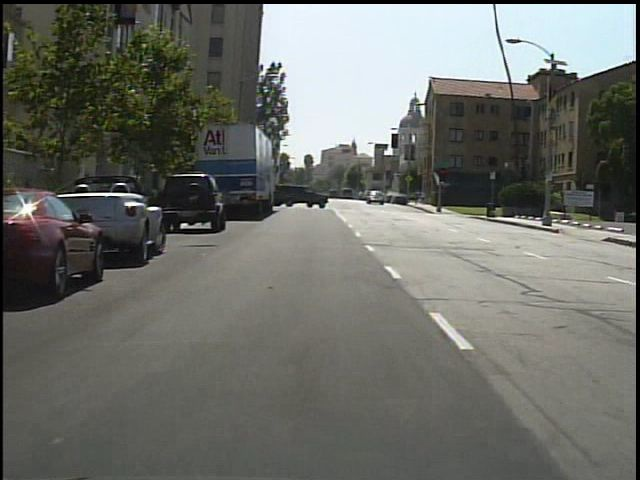person: (412, 188, 423, 210)
